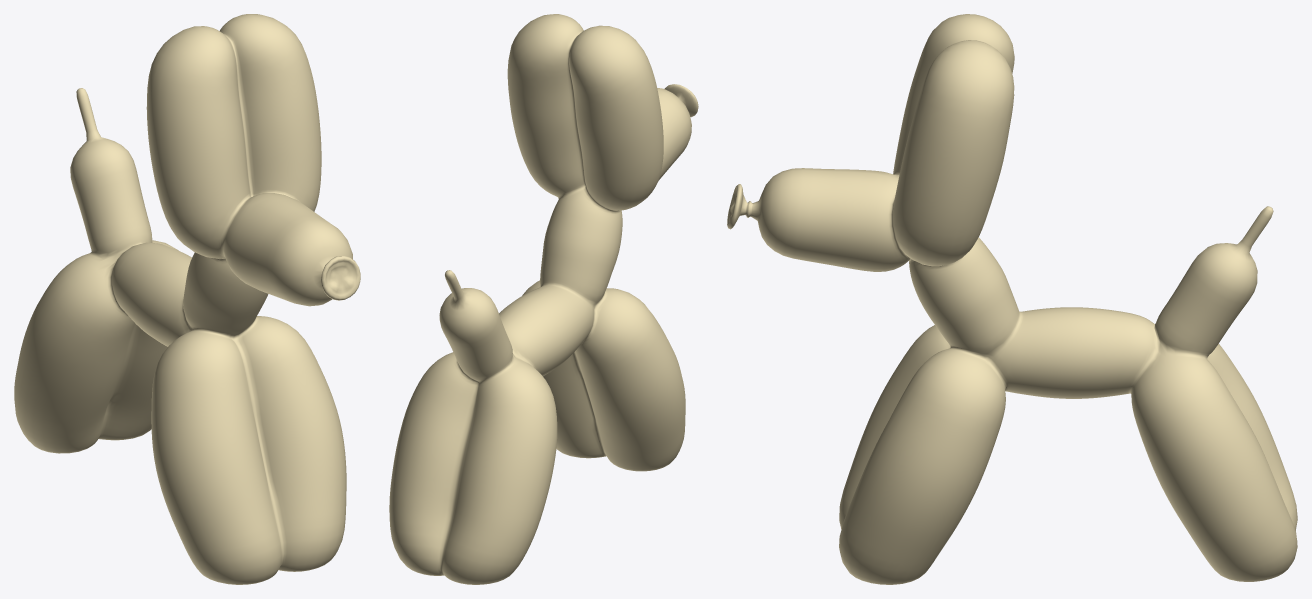
The model's file is balloon-dog.glb.
3 views of the same model, side by side, from view 1: azimuth 30°, elevation 25°; view 2: azimuth 150°, elevation 25°; view 3: azimuth 270°, elevation 25° (orthographic). The views are drawn at different scales.
Parts seen in each view (by area): view 1: Decorations_Toys_Dog-Inflatable_01; view 2: Decorations_Toys_Dog-Inflatable_01; view 3: Decorations_Toys_Dog-Inflatable_01.
Part boxes in pixels (bbox=[...]): Decorations_Toys_Dog-Inflatable_01: bbox=[14, 14, 360, 584]; Decorations_Toys_Dog-Inflatable_01: bbox=[389, 14, 698, 584]; Decorations_Toys_Dog-Inflatable_01: bbox=[727, 14, 1297, 584].
Bounding box in the file's own units: 0.6638 × 1.86 × 1.84.
